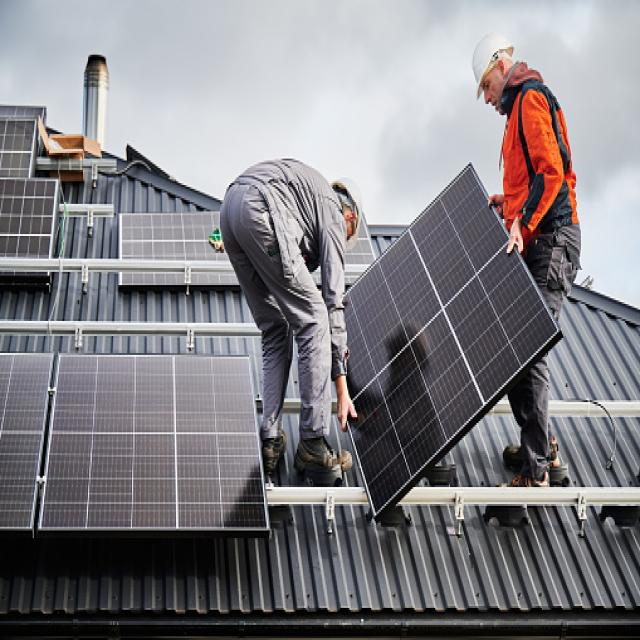clean-solar-panel: (346, 167, 562, 516), (39, 355, 269, 531)
